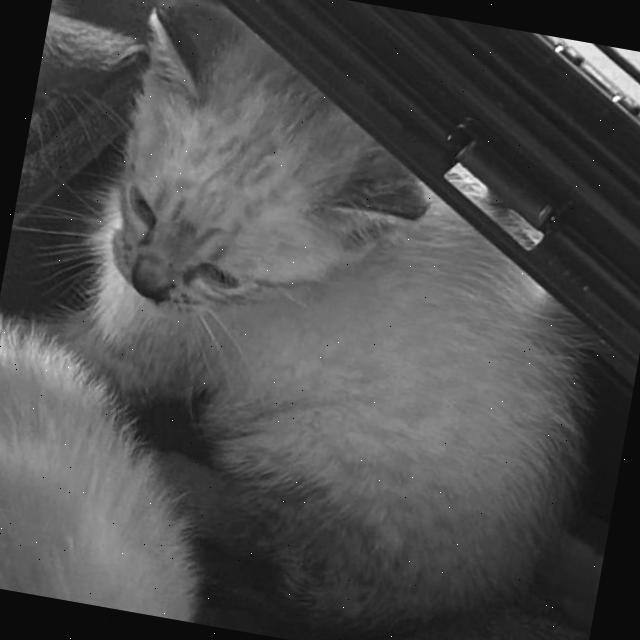siamese_cat: (53, 0, 465, 360)
